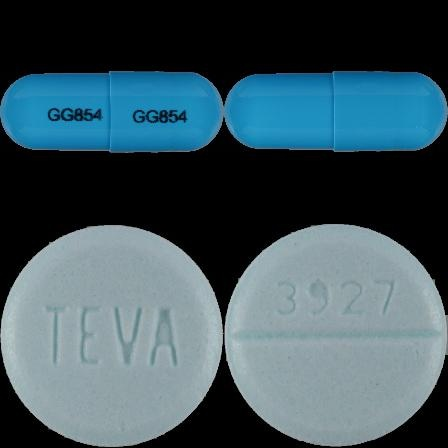54868-0937: (0, 0, 224, 224)
